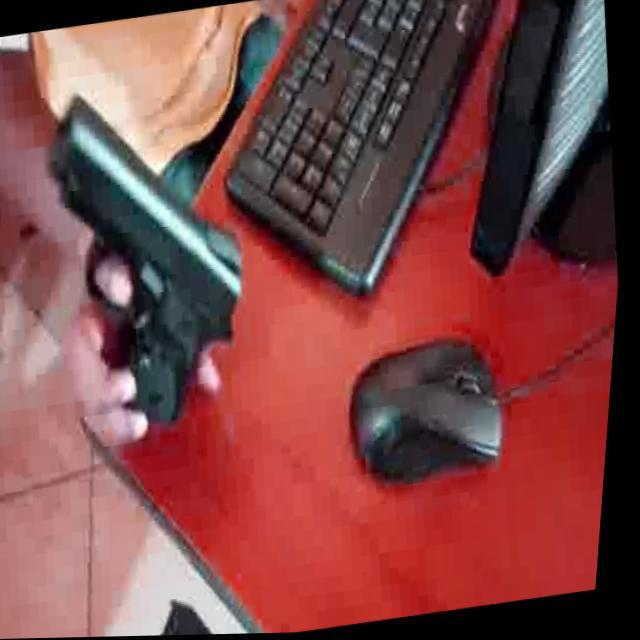weapon: (24, 70, 281, 450)
